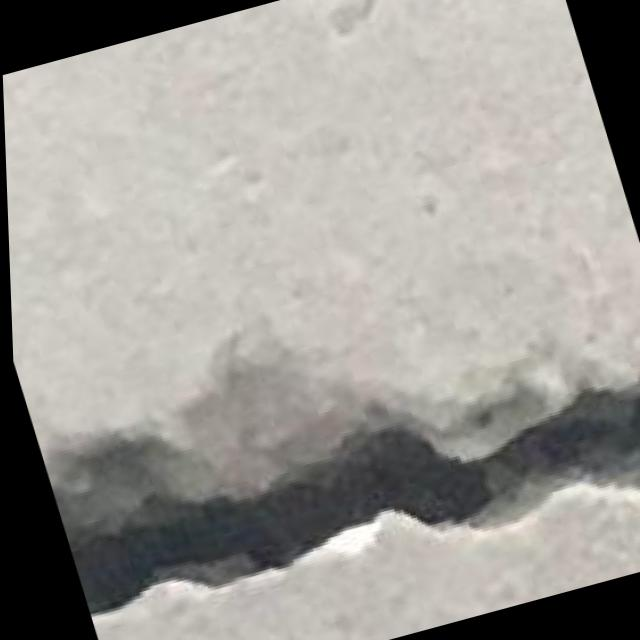Crack: (40, 313, 640, 640)
